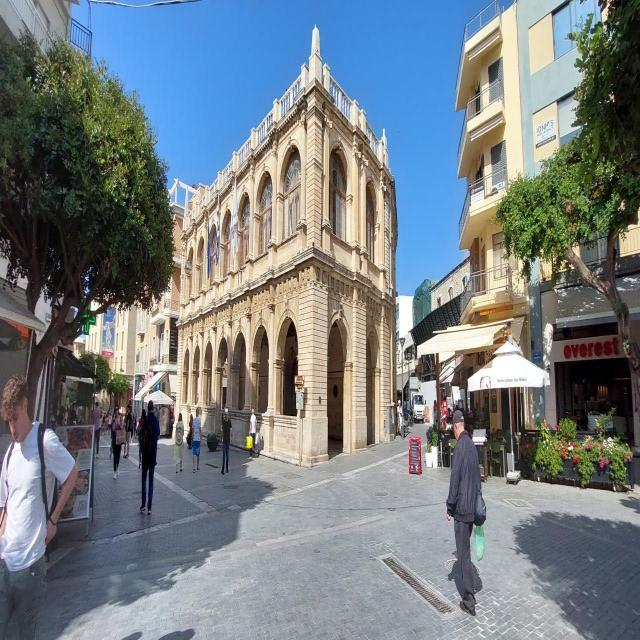Loggia: (173, 29, 401, 470)
